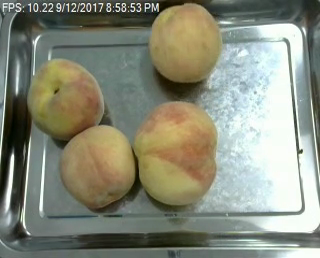Peach: (133, 102, 217, 206), (59, 124, 136, 212), (28, 57, 104, 139), (149, 3, 221, 83)
